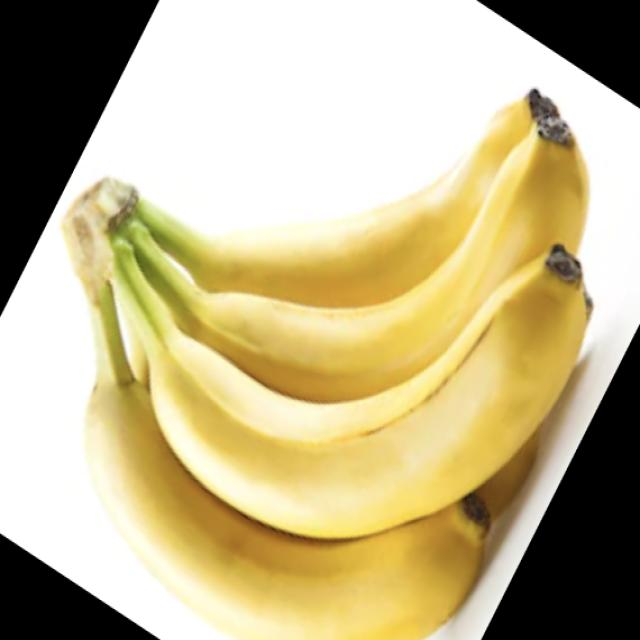god quality banana: (63, 89, 594, 639)
